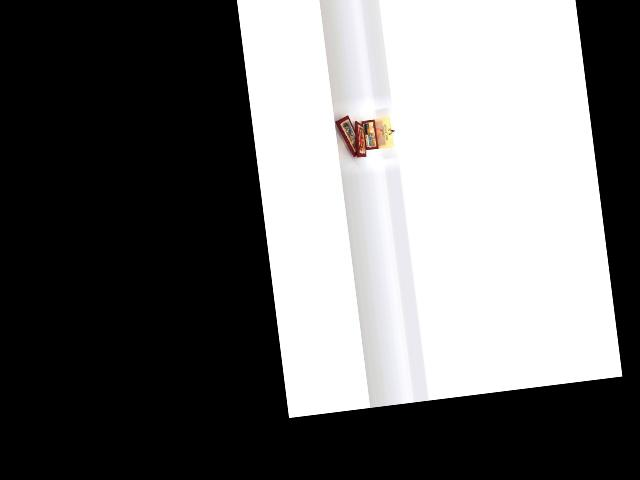chocolate: (330, 105, 361, 161)
